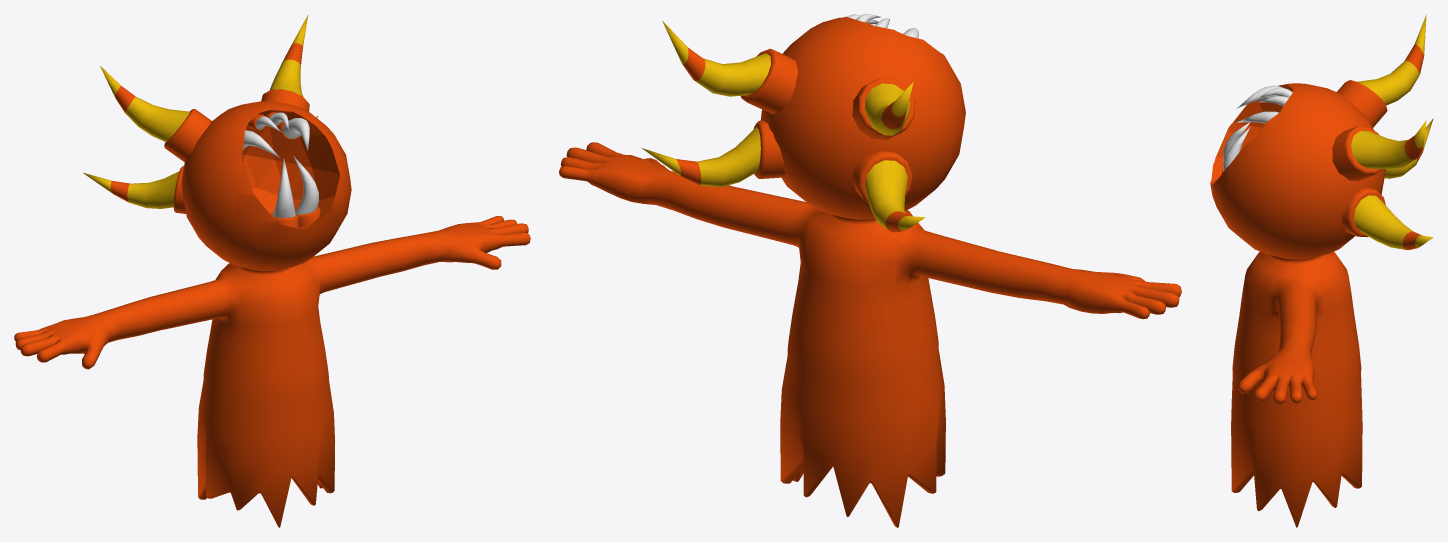
File: Polzun.fbx
3 renders of one model, left to right at view 1: azimuth 30°, elevation 25°; view 2: azimuth 150°, elevation 25°; view 3: azimuth 270°, elevation 25°, orthographic. The views are drawn at different scales.
Visible parts, largest first — view 1: Polzun; view 2: Polzun; view 3: Polzun.
Part boxes in pixels (bbox=[...]): Polzun: bbox=[14, 14, 530, 527]; Polzun: bbox=[559, 14, 1181, 527]; Polzun: bbox=[1210, 14, 1433, 527].
Bounding box in the file's own units: 1.85 × 1.46 × 0.6831.
